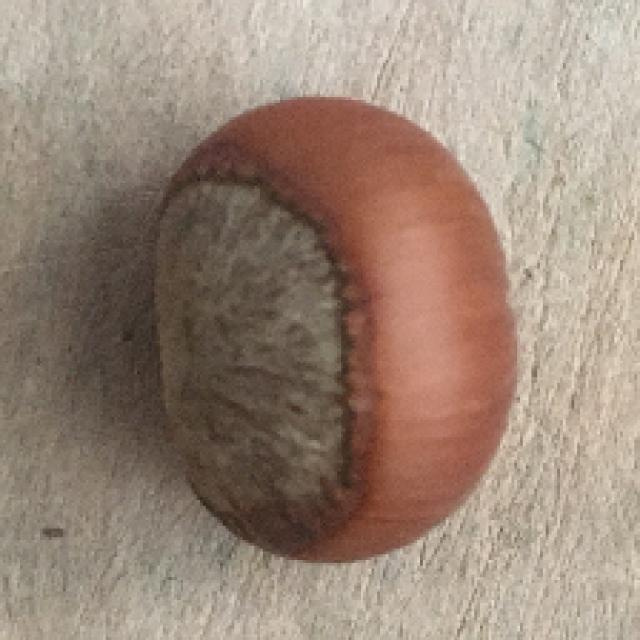qualityHazelnut: (158, 95, 520, 565)
